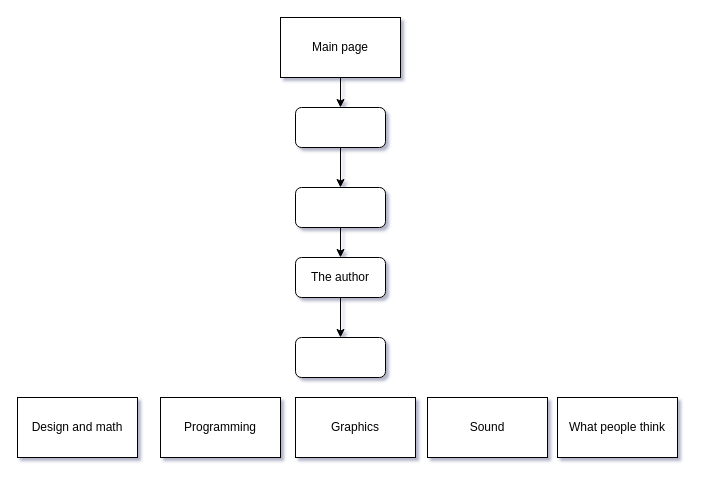
Image size: 701x481. Some labels were removed from this diagram. Each missing label, with the centre of its shape:
"Brief game description" goes at pixel 340 127.
"Cards for other pages" goes at pixel 340 357.
"Trailer" goes at pixel 340 207.
